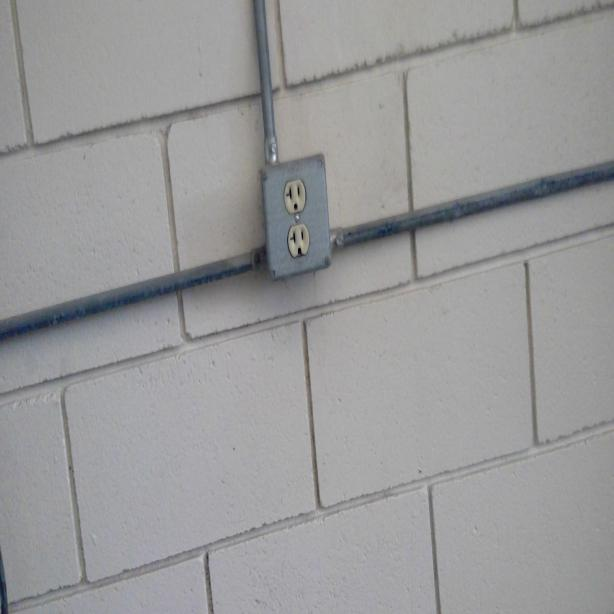typeb: (284, 177, 306, 214), (286, 225, 310, 257)
